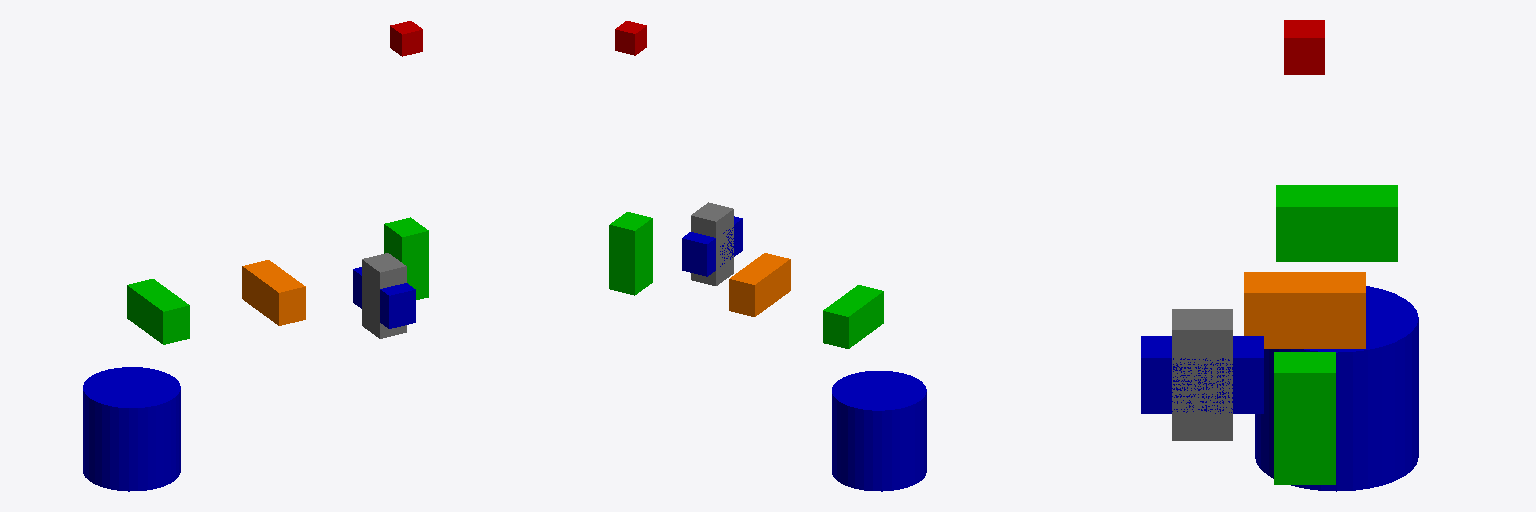
URDF robot description (robotic_arm):
<?xml version="1.0" ?>
<!-- =================================================================================== -->
<!-- |    This document was autogenerated by xacro from ./robo_arm_description/urdf/robo_arm.urdf.xacro | -->
<!-- |    EDITING THIS FILE BY HAND IS NOT RECOMMENDED                                 | -->
<!-- =================================================================================== -->
<robot name="robotic_arm">
  <!-- Material definitions -->
  <material name="blue">
    <color rgba="0 0 0.8 1"/>
  </material>
  <material name="grey">
    <color rgba="0.5 0.5 0.5 1"/>
  </material>
  <material name="red">
    <color rgba="0.8 0 0 1"/>
  </material>
  <material name="green">
    <color rgba="0 0.8 0 1"/>
  </material>
  <material name="orange">
    <color rgba="1 0.5 0 1"/>
  </material>
  <link name="world"/>
  <link name="base_link">
    <collision>
      <geometry>
        <cylinder length="0.15" radius="0.08"/>
      </geometry>
    </collision>
    <visual>
      <geometry>
        <cylinder length="0.15" radius="0.08"/>
      </geometry>
      <material name="blue"/>
    </visual>
    <inertial>
      <origin rpy="0 0 0" xyz="0 0 0.075"/>
      <mass value="2.0"/>
      <inertia ixx="0.01" ixy="0" ixz="0" iyy="0.01" iyz="0" izz="0.005"/>
    </inertial>
  </link>
  <joint name="world_to_base" type="fixed">
    <origin rpy="0 0 0" xyz="0.7 0 0.2"/>
    <parent link="world"/>
    <child link="base_link"/>
  </joint>
  <joint name="joint1" type="revolute">
    <origin rpy="0 0 0" xyz="0 0 0"/>
    <axis xyz="0 0 1"/>
    <limit effort="10.0" lower="-3.14159" upper="3.14159" velocity="1.0"/>
    <parent link="base_link"/>
    <child link="link1"/>
  </joint>
  <link name="link1">
    <collision>
      <geometry>
        <box size="0.05 0.06 0.12"/>
      </geometry>
    </collision>
    <visual>
      <geometry>
        <box size="0.05 0.06 0.12"/>
      </geometry>
      <material name="red"/>
    </visual>
    <inertial>
      <origin rpy="0 0 0" xyz="0 0 0.06"/>
      <mass value="0.5"/>
      <inertia ixx="0.0001" ixy="0" ixz="0" iyy="0.0001" iyz="0" izz="0.0003"/>
    </inertial>
  </link>
  <joint name="joint2" type="revolute">
    <origin rpy="1.5707963267948966 0 0" xyz="0.05 0 0.2"/>
    <axis xyz="0 0 1"/>
    <limit effort="10.0" lower="0" upper="3.141592653589793" velocity="1.0"/>
    <parent link="link1"/>
    <child link="link2"/>
  </joint>
  <link name="link2">
    <collision>
      <geometry>
        <box size="0.05 0.06 0.12"/>
      </geometry>
    </collision>
    <visual>
      <geometry>
        <box size="0.05 0.06 0.12"/>
      </geometry>
      <material name="green"/>
    </visual>
    <inertial>
      <origin rpy="0 0 0" xyz="0 0 0.06"/>
      <mass value="0.5"/>
      <inertia ixx="0.0001" ixy="0" ixz="0" iyy="0.0001" iyz="0" izz="0.0003"/>
    </inertial>
  </link>
  <joint name="joint3" type="revolute">
    <origin rpy="0 0 0" xyz="0.2 0 0.0313"/>
    <axis xyz="0 0 1"/>
    <limit effort="10.0" lower="-3.14159" upper="3.14159" velocity="1.0"/>
    <parent link="link2"/>
    <child link="link3"/>
  </joint>
  <link name="link3">
    <collision>
      <geometry>
        <box size="0.05 0.06 0.12"/>
      </geometry>
    </collision>
    <visual>
      <geometry>
        <box size="0.05 0.06 0.12"/>
      </geometry>
      <material name="orange"/>
    </visual>
    <inertial>
      <origin rpy="0 0 0" xyz="0 0 0.06"/>
      <mass value="0.5"/>
      <inertia ixx="0.0001" ixy="0" ixz="0" iyy="0.0001" iyz="0" izz="0.0003"/>
    </inertial>
  </link>
  <joint name="joint4" type="revolute">
    <origin rpy="-1.5707963267948966 0 0" xyz="0.15 0 0.1"/>
    <axis xyz="0 0 1"/>
    <limit effort="10.0" lower="0" upper="6.283185307179586" velocity="1.0"/>
    <parent link="link3"/>
    <child link="link4"/>
  </joint>
  <link name="link4">
    <collision>
      <geometry>
        <box size="0.05 0.06 0.12"/>
      </geometry>
    </collision>
    <visual>
      <geometry>
        <box size="0.05 0.06 0.12"/>
      </geometry>
      <material name="grey"/>
    </visual>
    <inertial>
      <origin rpy="0 0 0" xyz="0 0 0.06"/>
      <mass value="0.5"/>
      <inertia ixx="0.0001" ixy="0" ixz="0" iyy="0.0001" iyz="0" izz="0.0003"/>
    </inertial>
  </link>
  <joint name="joint5" type="revolute">
    <origin rpy="-1.5707963267948966 0 0" xyz="0 0 0"/>
    <axis xyz="0 0 1"/>
    <limit effort="10.0" lower="-3.14159" upper="3.14159" velocity="1.0"/>
    <parent link="link4"/>
    <child link="link5"/>
  </joint>
  <link name="link5">
    <collision>
      <geometry>
        <box size="0.05 0.06 0.12"/>
      </geometry>
    </collision>
    <visual>
      <geometry>
        <box size="0.05 0.06 0.12"/>
      </geometry>
      <material name="blue"/>
    </visual>
    <inertial>
      <origin rpy="0 0 0" xyz="0 0 0.06"/>
      <mass value="0.5"/>
      <inertia ixx="0.0001" ixy="0" ixz="0" iyy="0.0001" iyz="0" izz="0.0003"/>
    </inertial>
  </link>
  <joint name="joint6" type="revolute">
    <origin rpy="1.5707963267948966 0 0" xyz="0.1 0 0.1"/>
    <axis xyz="0 0 1"/>
    <limit effort="10.0" lower="-3.14159" upper="3.14159" velocity="1.0"/>
    <parent link="link5"/>
    <child link="link6"/>
  </joint>
  <link name="link6">
    <collision>
      <geometry>
        <box size="0.05 0.06 0.12"/>
      </geometry>
    </collision>
    <visual>
      <geometry>
        <box size="0.05 0.06 0.12"/>
      </geometry>
      <material name="green"/>
    </visual>
    <inertial>
      <origin rpy="0 0 0" xyz="0 0 0.06"/>
      <mass value="0.5"/>
      <inertia ixx="0.0001" ixy="0" ixz="0" iyy="0.0001" iyz="0" izz="0.0003"/>
    </inertial>
  </link>
  <!-- joint7-->
  <joint name="joint7" type="fixed">
    <!-- 沿z₆轴偏移d₇距离，假设d₇=0.1 -->
    <origin rpy="0 0 0" xyz="0 0 0.4"/>
    <parent link="link6"/>
    <child link="end_effector"/>
  </joint>
  <!-- end effector -->
  <link name="end_effector">
    <collision>
      <geometry>
        <box size="0.04 0.04 0.04"/>
      </geometry>
    </collision>
    <visual>
      <geometry>
        <box size="0.04 0.04 0.04"/>
      </geometry>
      <material name="red"/>
    </visual>
    <inertial>
      <origin rpy="0 0 0" xyz="0 0 0.02"/>
      <mass value="0.2"/>
      <inertia ixx="0.00001" ixy="0" ixz="0" iyy="0.00001" iyz="0" izz="0.00001"/>
    </inertial>
  </link>
</robot>

--- Render facts (derived) ---
3 views of the same robot in one strip: view 1: azimuth 30°, elevation 25°; view 2: azimuth 150°, elevation 25°; view 3: azimuth 270°, elevation 25° (orthographic).
Model robotic_arm with 9 links and 8 joints (6 revolute, 2 fixed), rooted at world, posed all joints at 0.
Links seen in each view (by area): view 1: base_link, link3, link2, link6, link4, link5, end_effector; view 2: base_link, link6, link3, link2, link4, link5, end_effector; view 3: base_link, link2, link3, link6, link4, link5, end_effector.
Boxes of the visible links, left/top/right/bottom form: base_link: left=83, top=367, right=180, bottom=491; link3: left=242, top=260, right=305, bottom=325; link2: left=127, top=279, right=189, bottom=344; link6: left=384, top=217, right=428, bottom=299; link4: left=362, top=253, right=406, bottom=338; link5: left=353, top=267, right=415, bottom=328; end_effector: left=390, top=21, right=422, bottom=56; base_link: left=832, top=371, right=926, bottom=491; link6: left=609, top=212, right=652, bottom=295; link3: left=729, top=253, right=790, bottom=316; link2: left=823, top=285, right=883, bottom=348; link4: left=691, top=202, right=733, bottom=285; link5: left=682, top=216, right=742, bottom=276; end_effector: left=615, top=21, right=646, bottom=55; base_link: left=1255, top=286, right=1418, bottom=491; link2: left=1276, top=185, right=1397, bottom=261; link3: left=1244, top=272, right=1365, bottom=348; link6: left=1274, top=352, right=1335, bottom=484; link4: left=1172, top=309, right=1232, bottom=440; link5: left=1141, top=336, right=1263, bottom=413; end_effector: left=1284, top=20, right=1324, bottom=74.
Bounding box of the posed robot: 0.605 × 0.2713 × 0.695 m (x, y, z).
Geometry: primitives only (box / cylinder / sphere), no mesh files.
